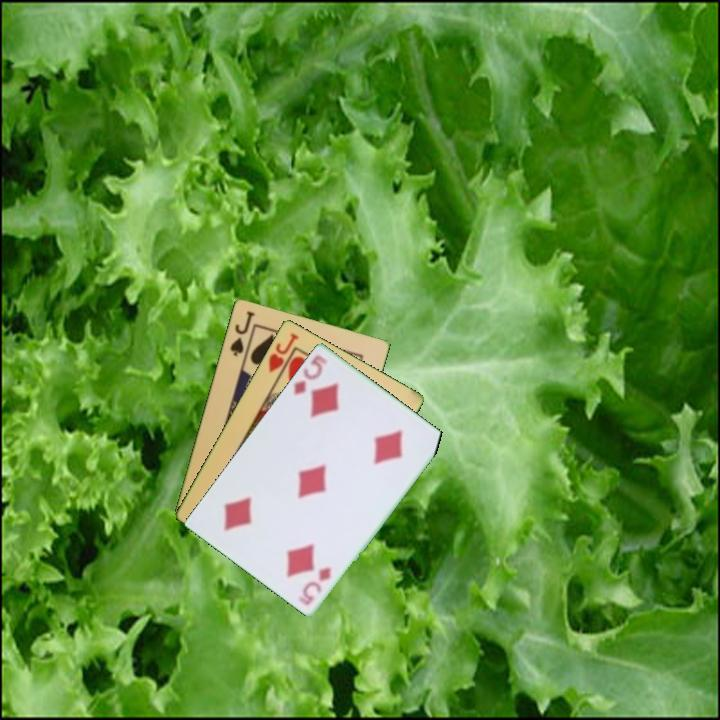5d: (290, 350, 330, 398), (299, 563, 334, 608)
Jh: (265, 329, 302, 383)
Js: (226, 307, 257, 359)
